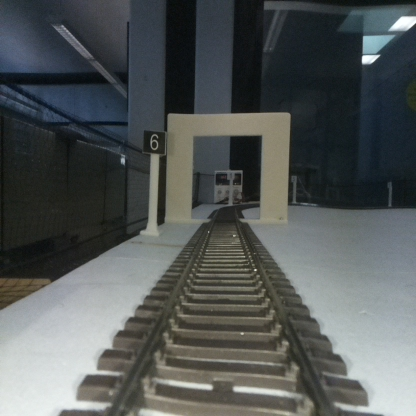black-info-6: (143, 131, 165, 234)
